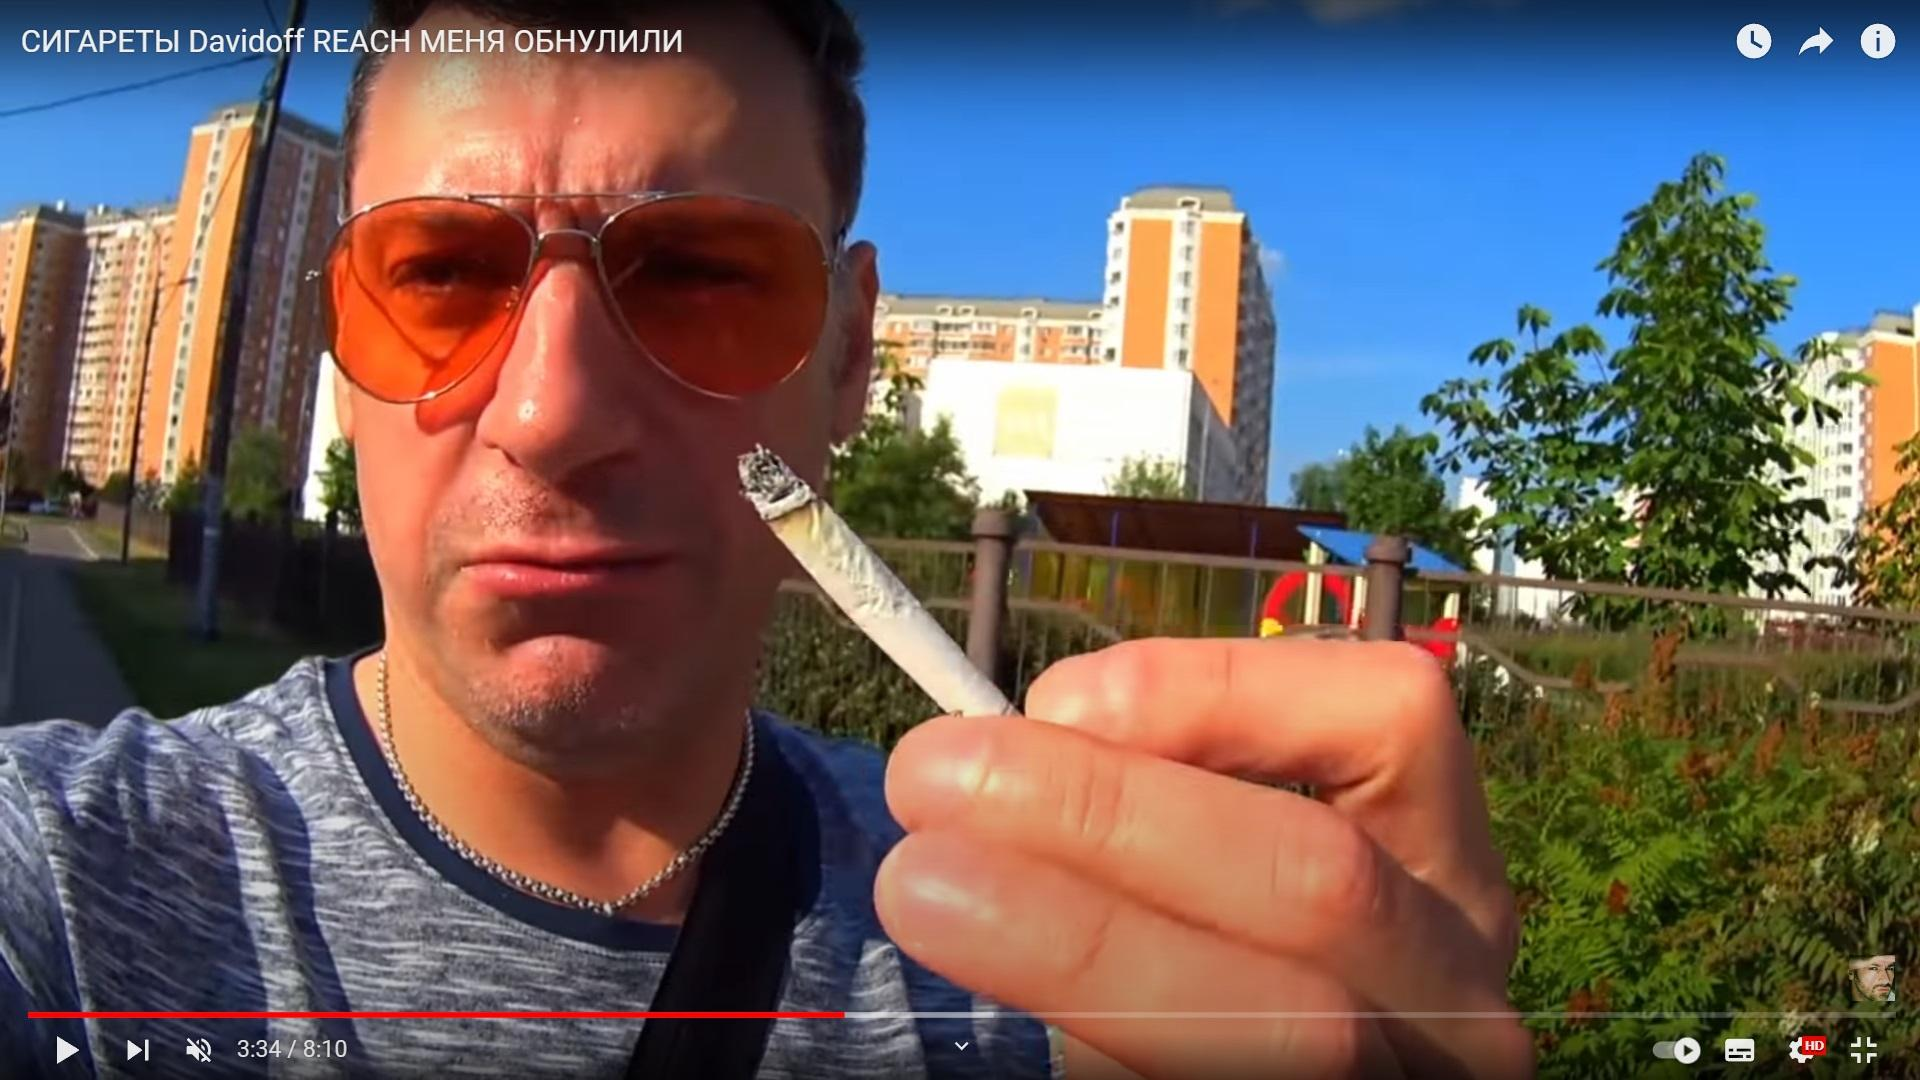cigarette: (738, 446, 1013, 716)
